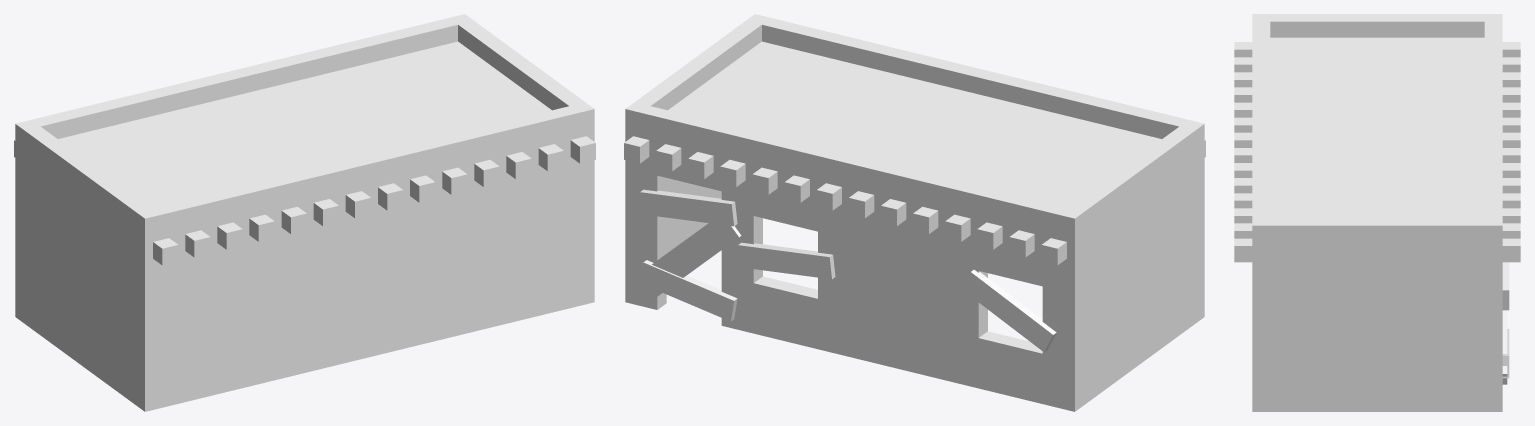
File: pueblo-m.fbx
The picture shows the model from 3 angles, left to right: view 1: azimuth 30°, elevation 25°; view 2: azimuth 150°, elevation 25°; view 3: azimuth 270°, elevation 25°; orthographic projection. The views are drawn at different scales.
Parts seen in each view (by area): view 1: Plane; view 2: Plane; view 3: Plane.
Part boxes in pixels (x1,y1,x2,y2): Plane: (14,14,595,411); Plane: (624,14,1205,411); Plane: (1234,14,1520,411).
Bounding box in the file's own units: 28 × 11.5 × 16.
